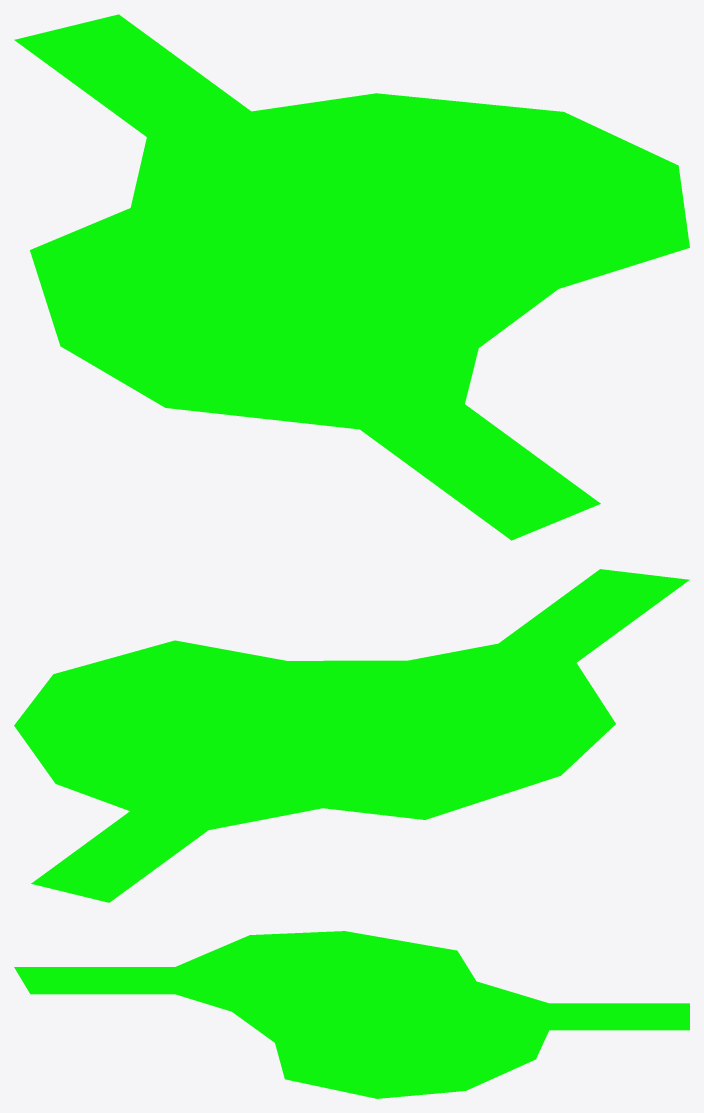
File: s01a_ga1-floor.glb
The picture shows the model from 3 angles, top to bottom: view 1: azimuth 30°, elevation 25°; view 2: azimuth 150°, elevation 25°; view 3: azimuth 270°, elevation 25°; orthographic projection. The views are drawn at different scales.
Visible parts, largest first — view 1: collision_floor-colonly; view 2: collision_floor-colonly; view 3: collision_floor-colonly.
Part boxes in pixels (x1=…): collision_floor-colonly: x1=14, y1=14, x2=689, y2=540; collision_floor-colonly: x1=14, y1=569, x2=689, y2=902; collision_floor-colonly: x1=14, y1=931, x2=689, y2=1098.
Size of the model in its own units: 37.13 by 0 by 63.17.
